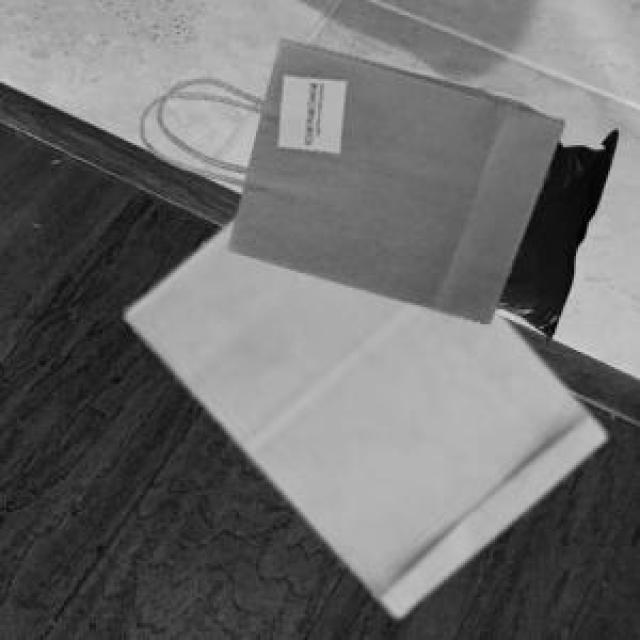miscellaneous trash: (493, 126, 614, 339)
paper: (124, 216, 602, 612), (149, 36, 559, 320)
